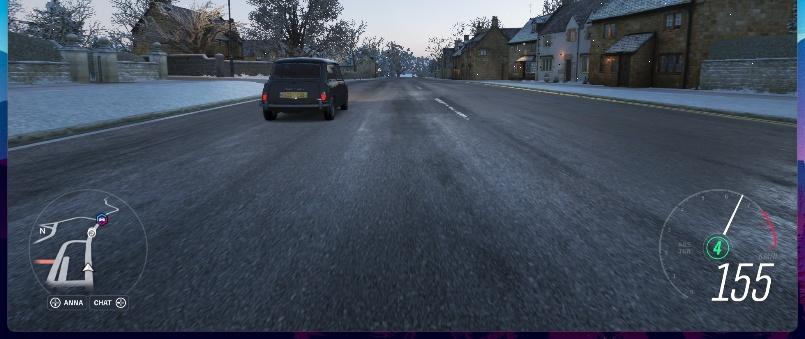House: (586, 0, 797, 91), (130, 0, 244, 60), (534, 0, 607, 83), (449, 16, 520, 80), (506, 13, 553, 80)
Tree: (245, 0, 343, 58), (26, 0, 95, 46), (167, 0, 225, 54), (316, 18, 366, 69), (379, 40, 413, 77)
